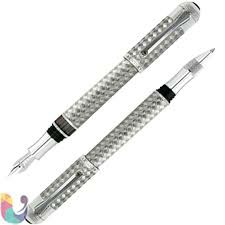pen: (29, 47, 213, 223), (14, 3, 196, 175)
